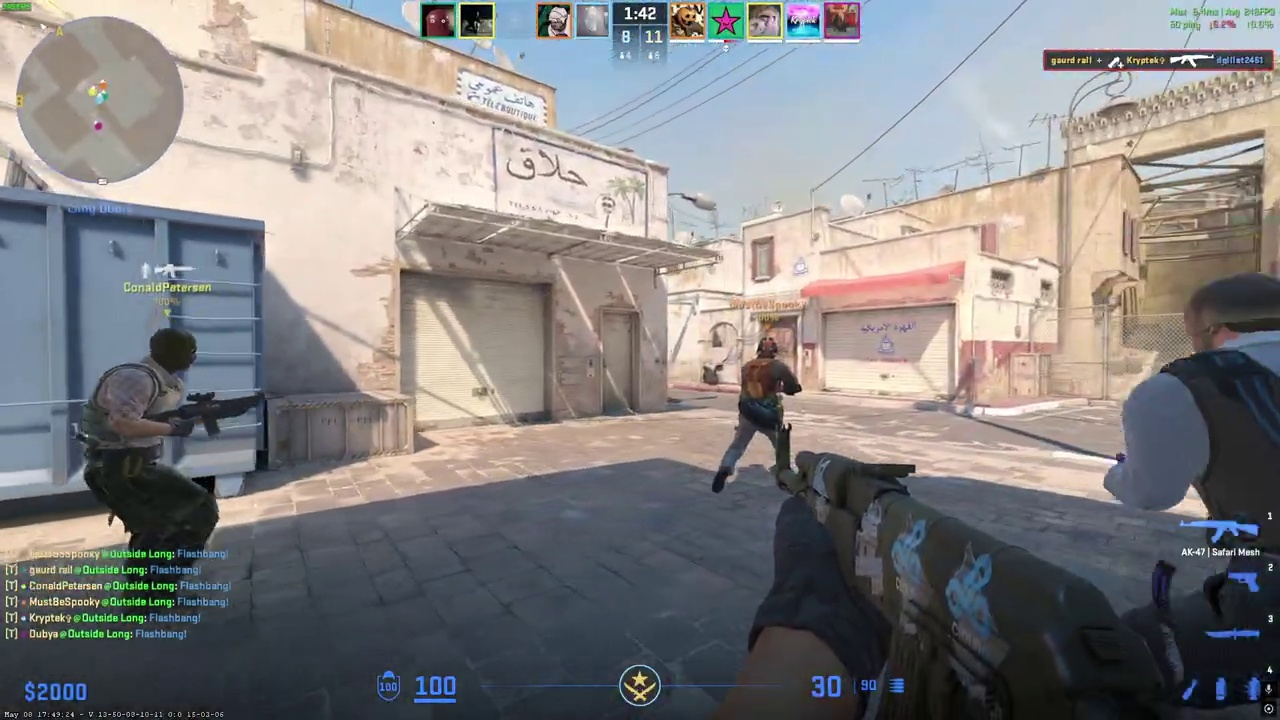Terrorist: (1116, 274, 1280, 637), (79, 326, 225, 630), (720, 337, 797, 496)
